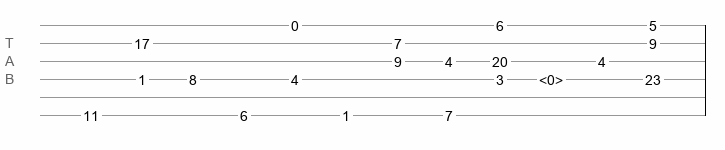0: (291, 18, 299, 28)
1: (138, 72, 146, 82), (342, 108, 350, 118)
11: (83, 108, 99, 118)
17: (134, 36, 150, 46)
20: (492, 54, 508, 64)
23: (645, 72, 661, 82)
3: (496, 72, 504, 82)
4: (291, 72, 299, 82), (445, 54, 453, 64), (598, 54, 606, 64)
5: (649, 18, 657, 28)
6: (240, 108, 248, 118), (496, 18, 504, 28)
7: (394, 36, 402, 46), (445, 108, 453, 118)
8: (189, 72, 197, 82)
9: (394, 54, 402, 64), (649, 36, 657, 46)
harmonic: (539, 72, 563, 82)
